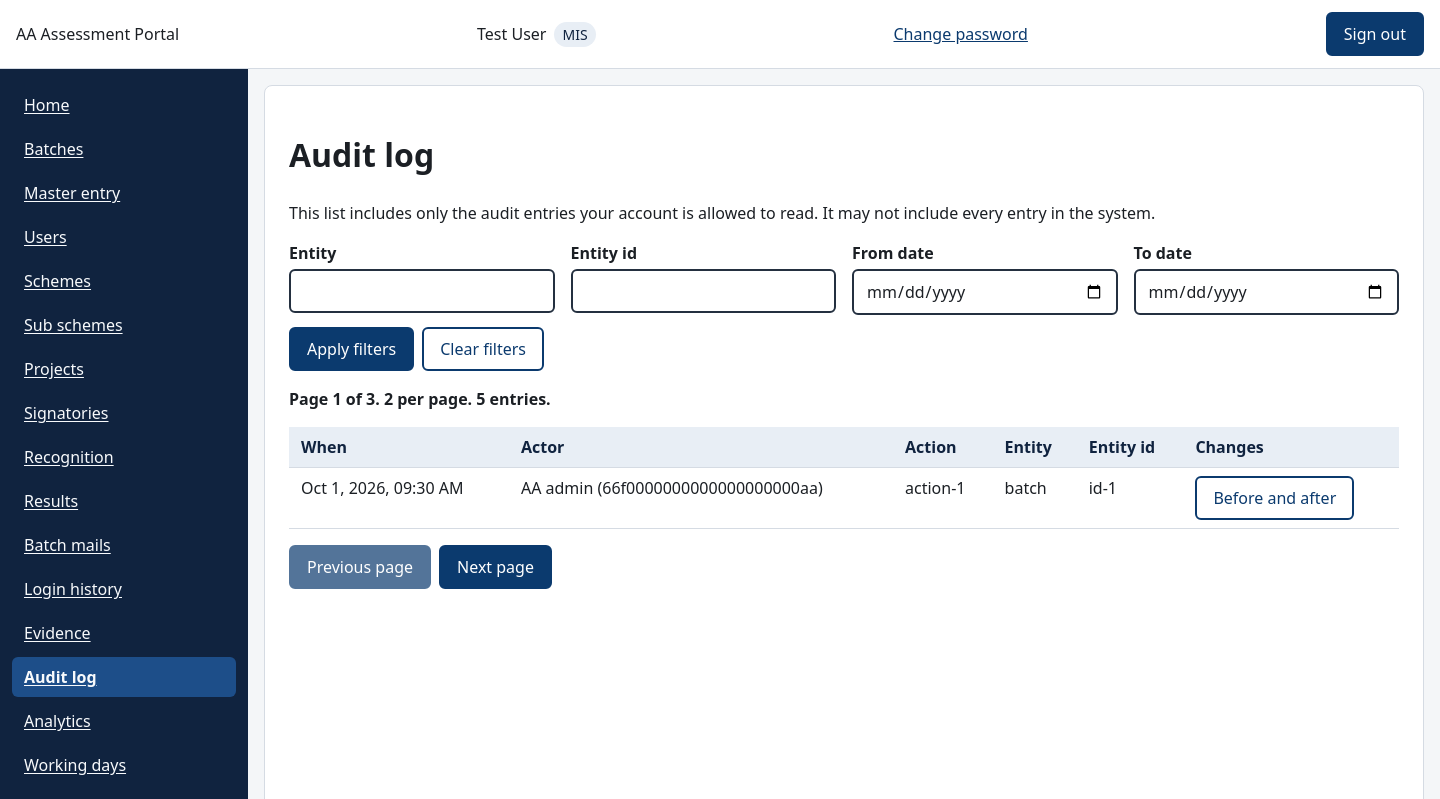
Test: pages with the returned page, pageSize, and total
The image size is (1440, 799).
Expected: the text "Page 1 of 3. 2 per page. 5 entries." is shown, [289,388,551,410]
Expected: the column headings read "When", "Actor", "Action", "Entity", "Entity id", "Changes", in this order, [289,427,509,467]; [509,427,893,467]; [893,427,992,467]; [993,427,1077,467]; [1077,427,1183,467]; [1183,427,1399,467]
Click the button "Next page" at (496, 567), box [439,545,552,589]
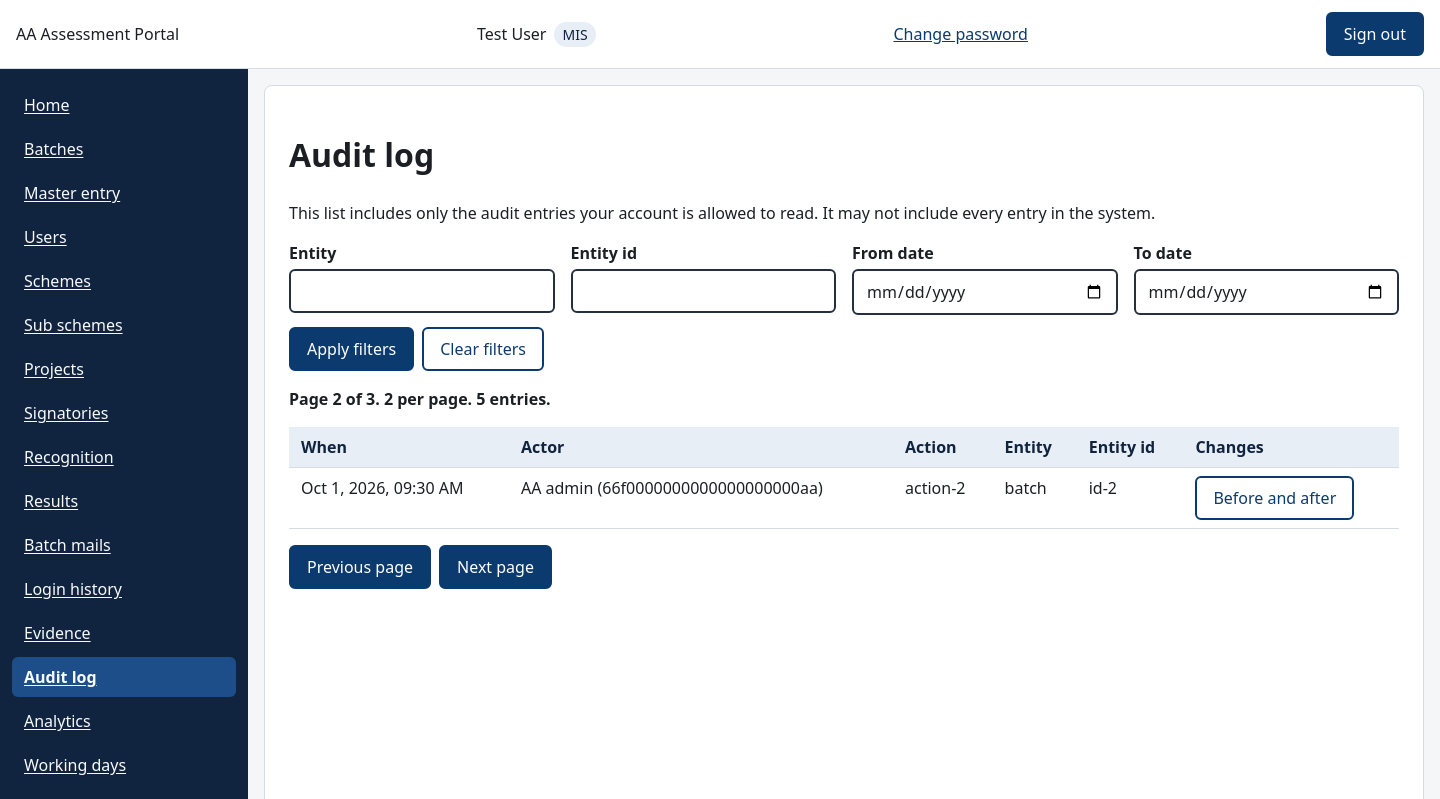
Now the cell "action-2" is shown, box [893,468,992,528]
Now the message reads "Page 2 of 3. 2 per page. 5 entries.", box [289,388,551,410]
Click the button "Next page" at (496, 567), box [439,545,552,589]
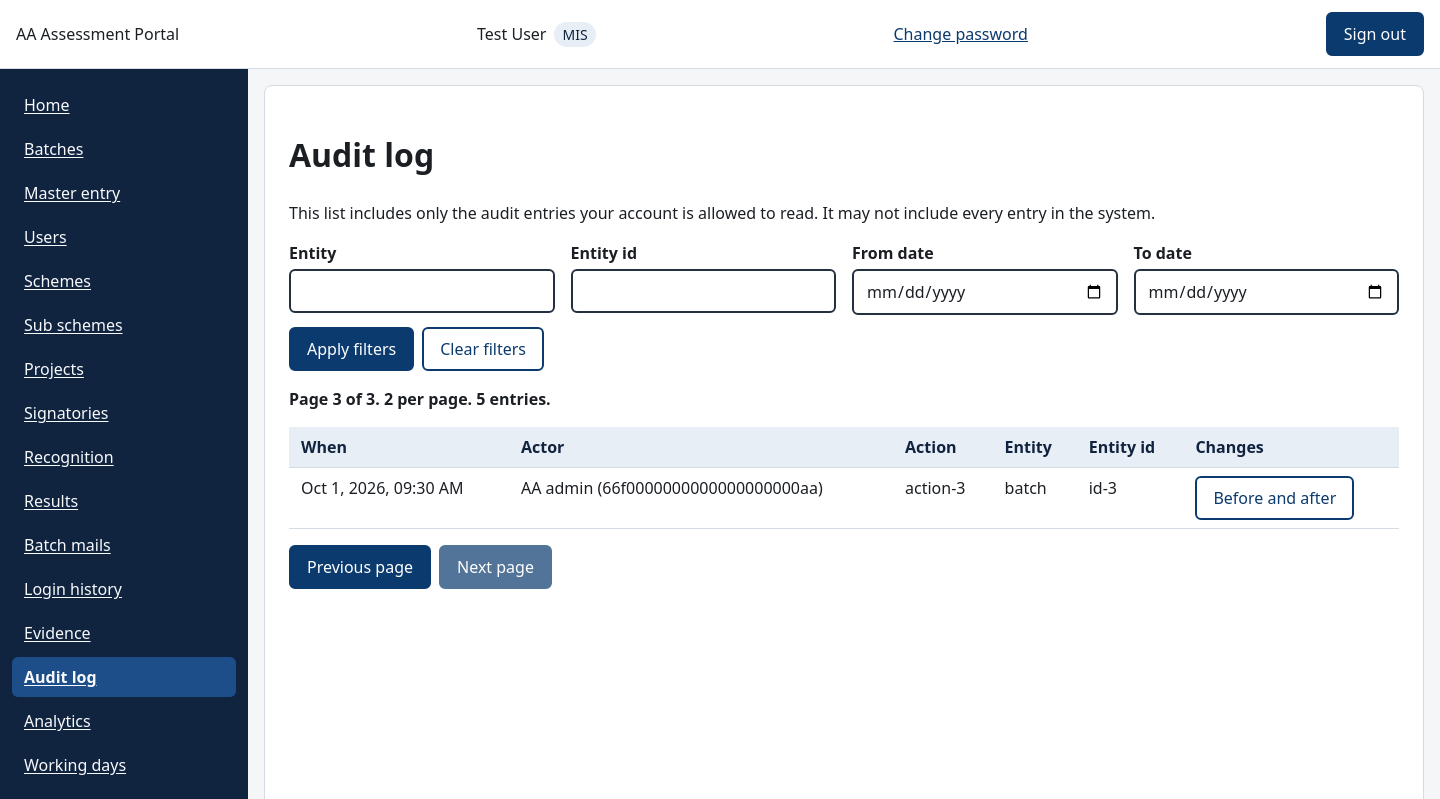
Now the cell "action-3" is shown, box [893,468,992,528]
Now the button "Next page" is disabled, box [439,545,552,589]
Click the button "Previous page" at (360, 567), box [289,545,431,589]
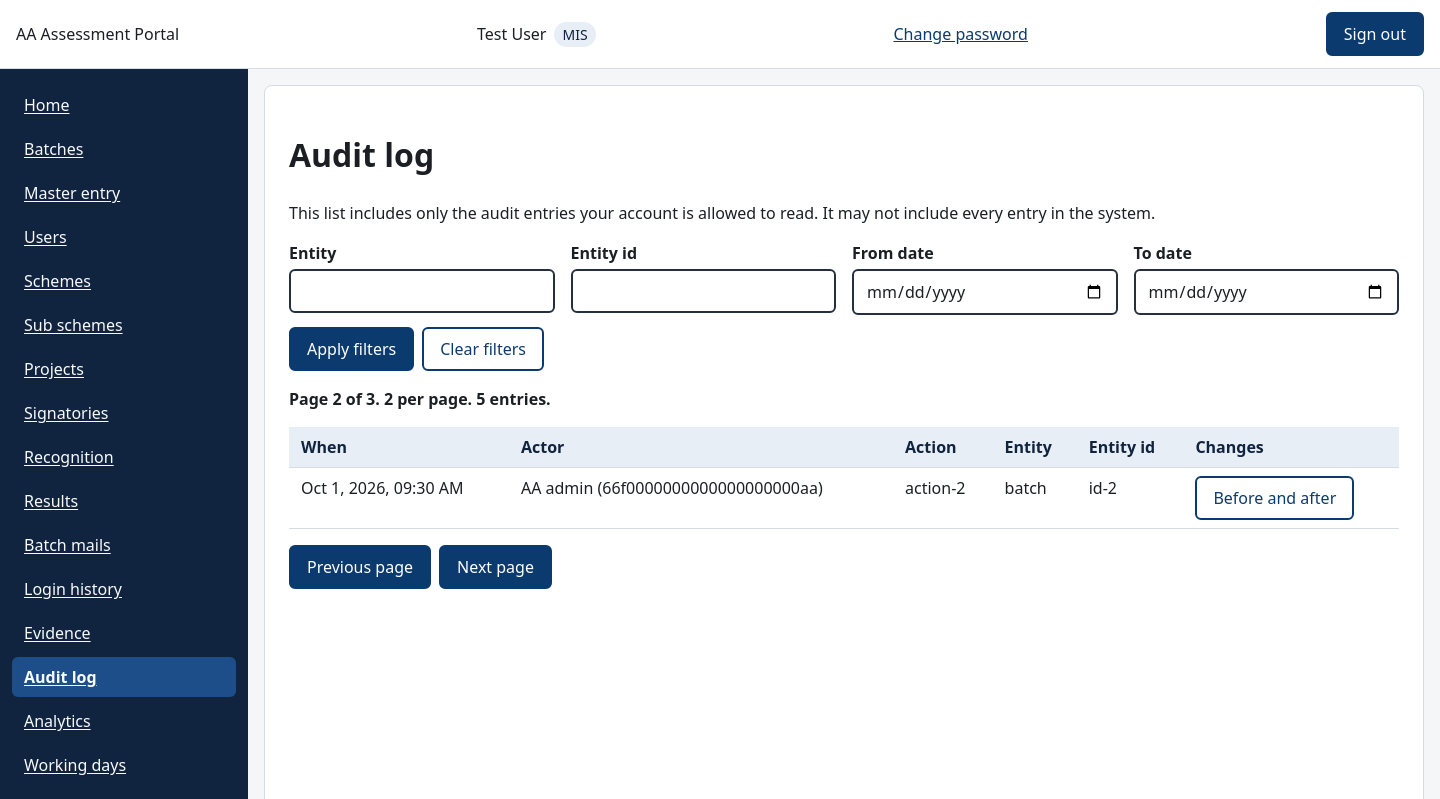
Now the cell "action-2" is shown, box [893,468,992,528]
